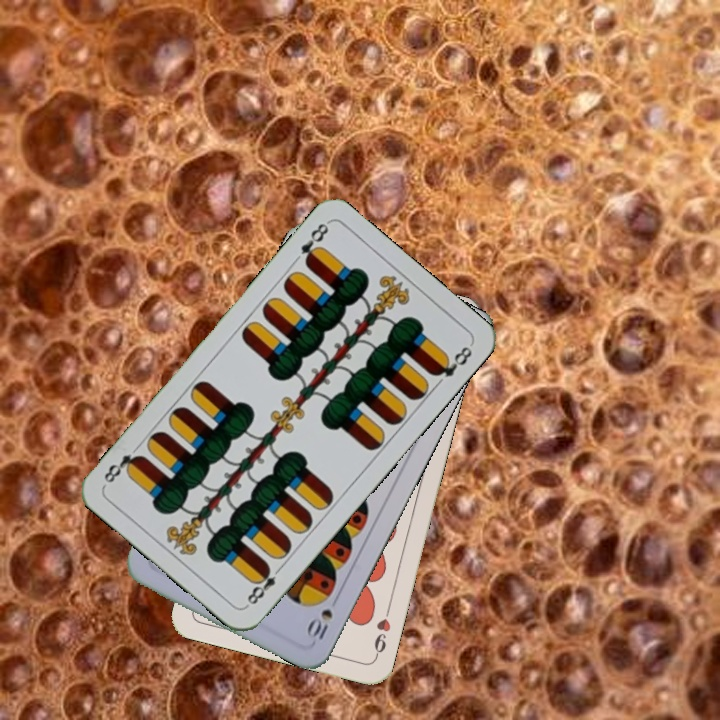E8: (242, 561, 286, 609), (296, 218, 332, 269)
H9: (370, 602, 394, 660)
S10: (302, 590, 342, 645)
